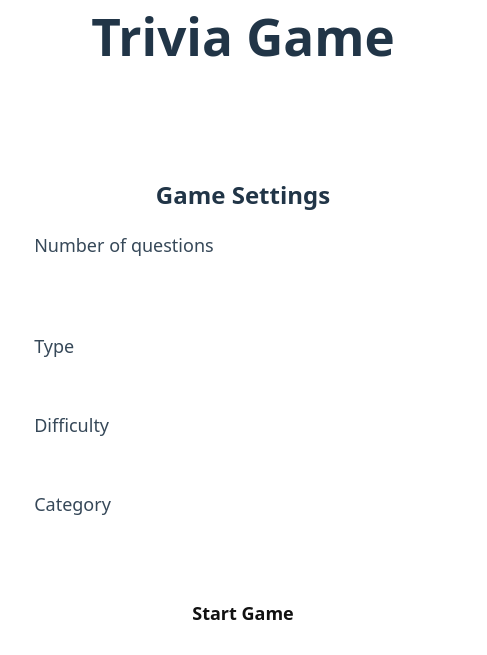
Scenario: App Flow Test › After GamePlay ends, posts results
What coordinates should you click on to do the following:
click the button "Start Game"
I would click on:
 (243, 613)
Its box is [34, 588, 452, 638].
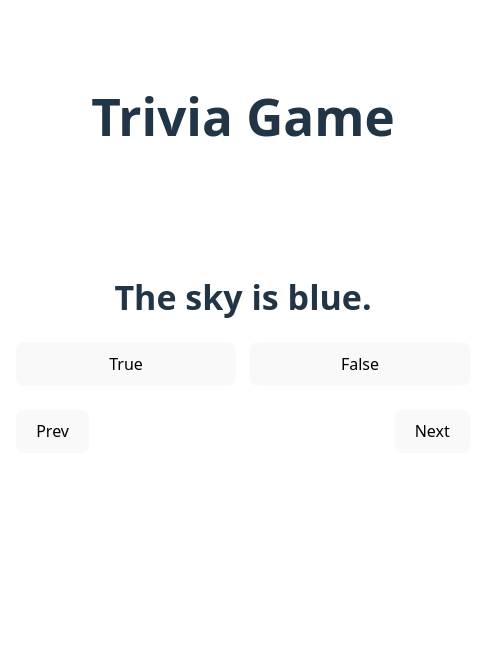
What coordinates should you click on to do the following:
click the button "True"
I would click on:
 (126, 364)
Its box is [16, 342, 236, 386].
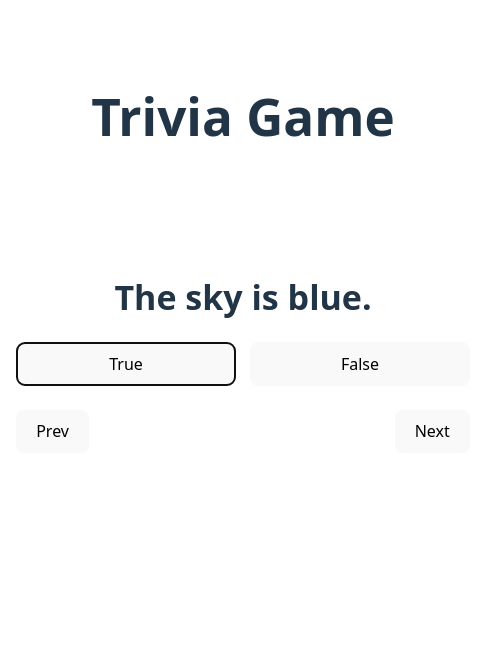
What coordinates should you click on to do the following:
click the button "Next"
I would click on:
 (432, 431)
Its box is [394, 410, 470, 453].
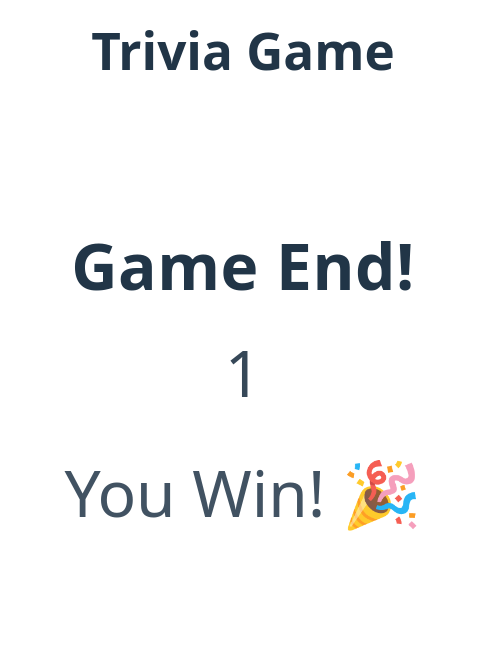
Check: the heading "Game End!" is shown, box [71, 231, 415, 301]
